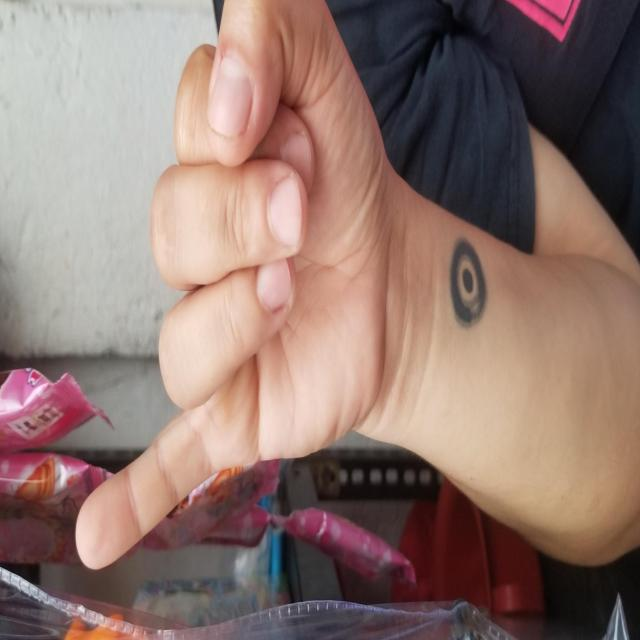I: (67, 75, 640, 386)
